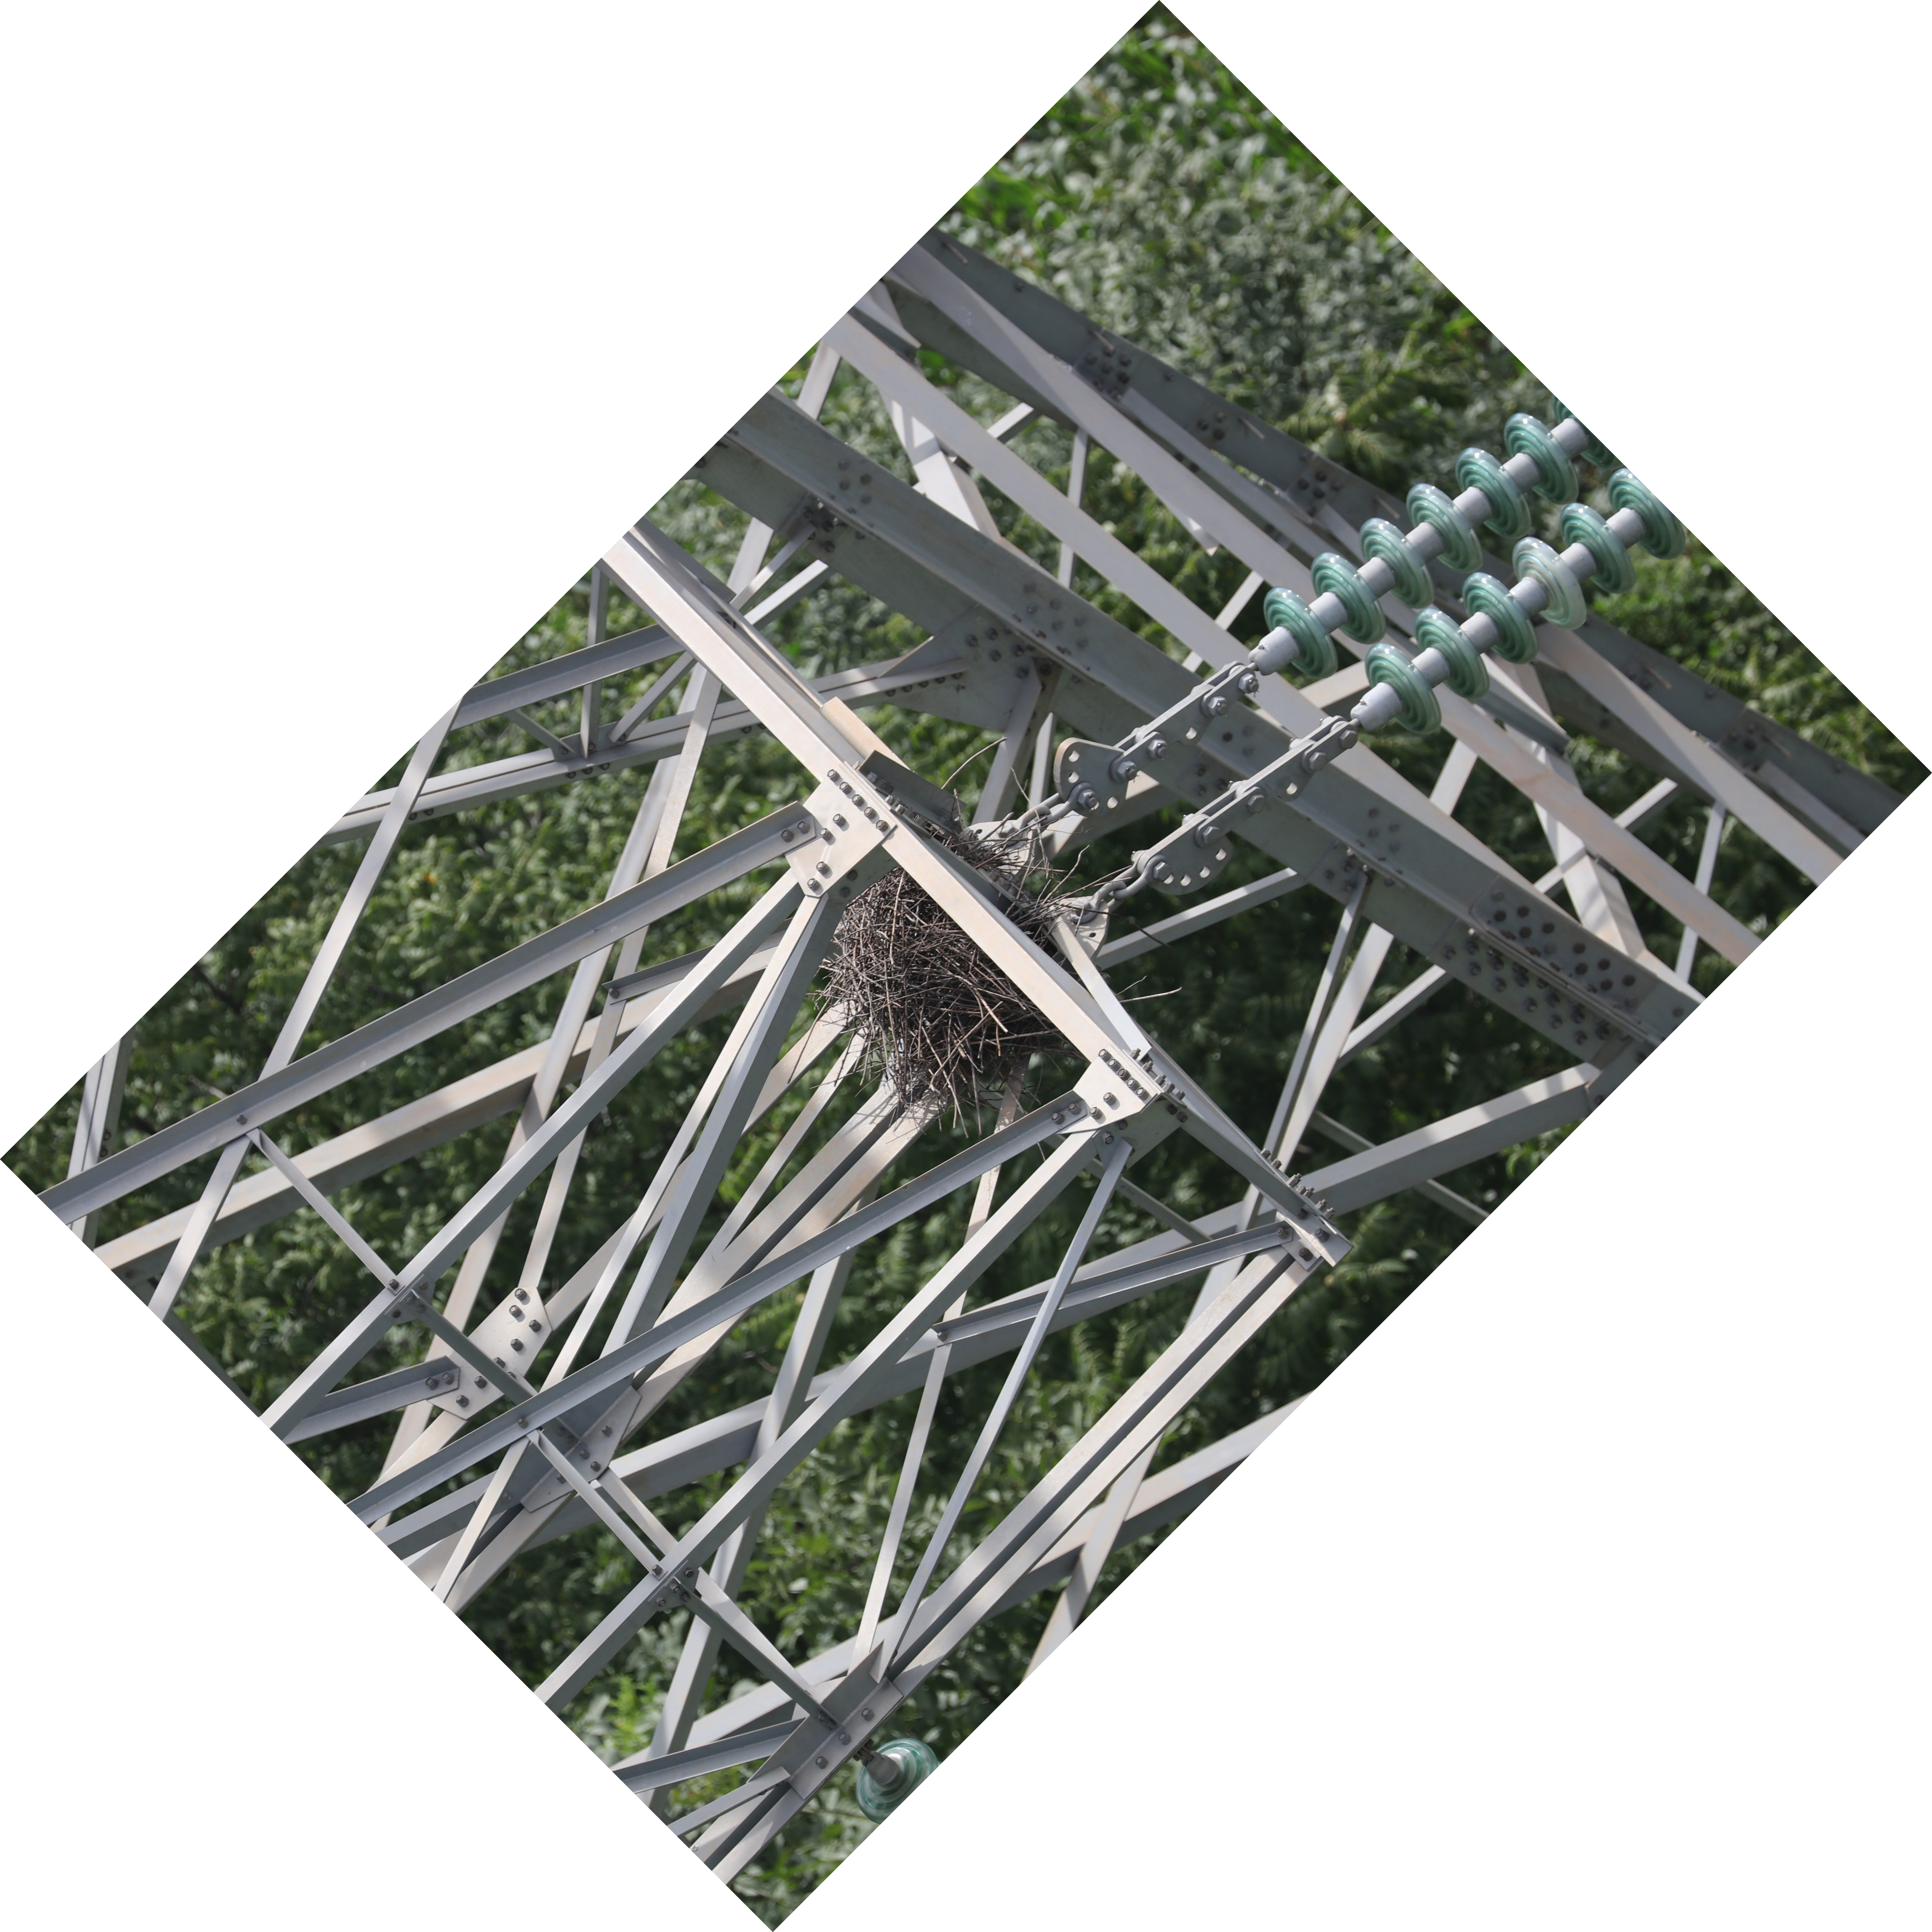niaowo: (796, 812, 1106, 1125)
